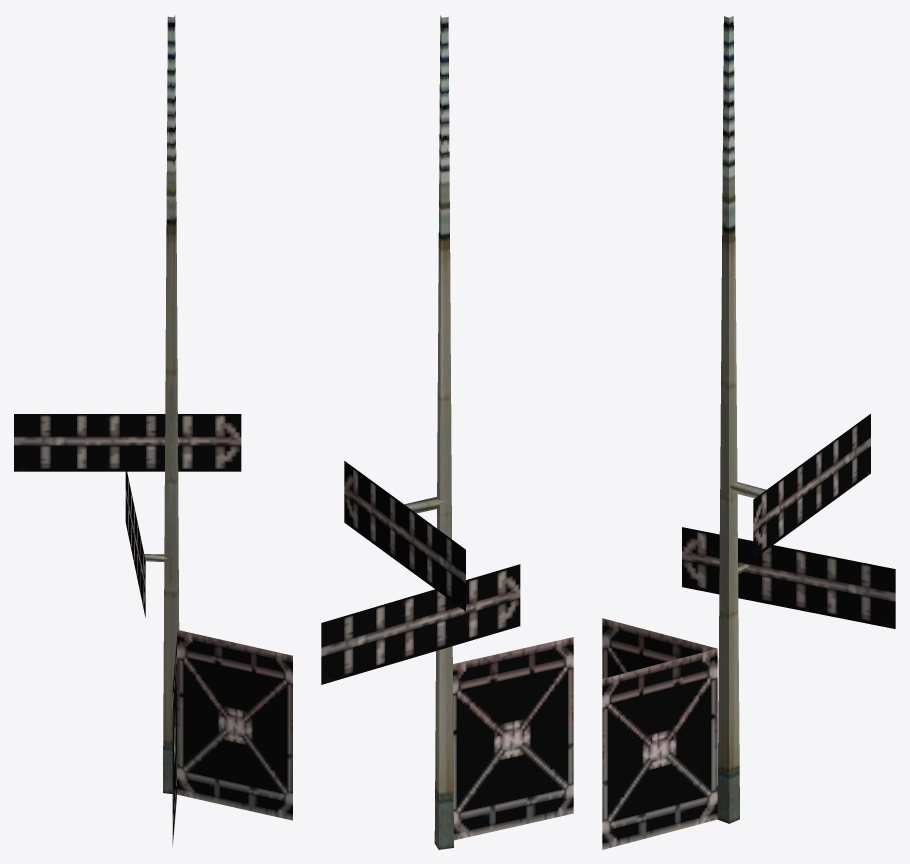
The model's file is M2_Ariel5.glb.
3 views of the same model, side by side, from view 1: azimuth 30°, elevation 25°; view 2: azimuth 150°, elevation 25°; view 3: azimuth 270°, elevation 25° (orthographic). The views are drawn at different scales.
Visible parts, largest first — view 1: M2_ARIEL5; view 2: M2_ARIEL5; view 3: M2_ARIEL5.
Boxes of the visible parts, x1,y1,x2,y2 form: M2_ARIEL5: [14, 15, 292, 846]; M2_ARIEL5: [321, 15, 573, 849]; M2_ARIEL5: [602, 16, 895, 849].
Bounding box in the file's own units: 1.38 × 6.02 × 1.99.
Materials: 2 (2 with a texture image).
